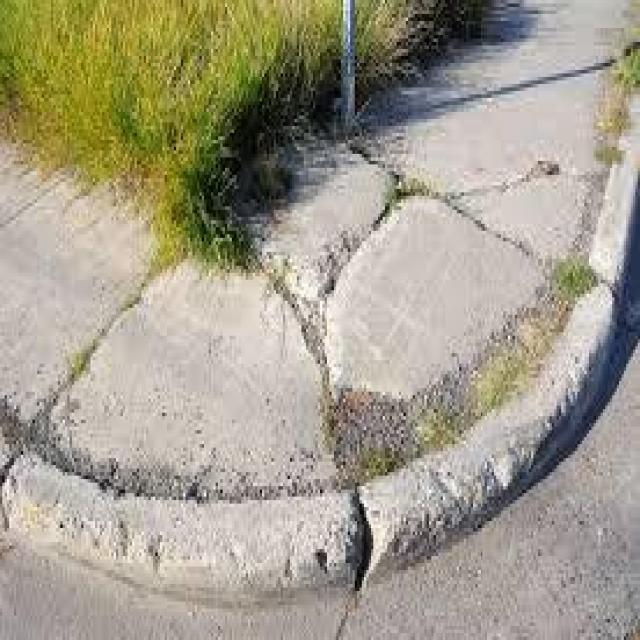curb: (361, 285, 637, 589), (4, 456, 357, 590), (590, 95, 640, 288)
